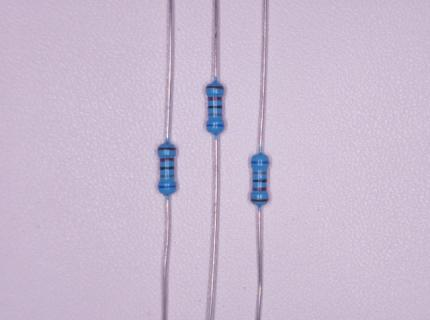Black band: (160, 166, 175, 170), (208, 105, 223, 109), (252, 179, 268, 182)
Blue band: (158, 185, 177, 189), (206, 124, 225, 128), (208, 113, 223, 117), (251, 161, 269, 164)
Brown band: (205, 86, 224, 89), (158, 148, 176, 151), (251, 199, 269, 202)
Grey band: (161, 174, 175, 178), (252, 172, 267, 174)
Red band: (159, 158, 175, 163), (208, 96, 223, 101), (252, 187, 267, 191)
